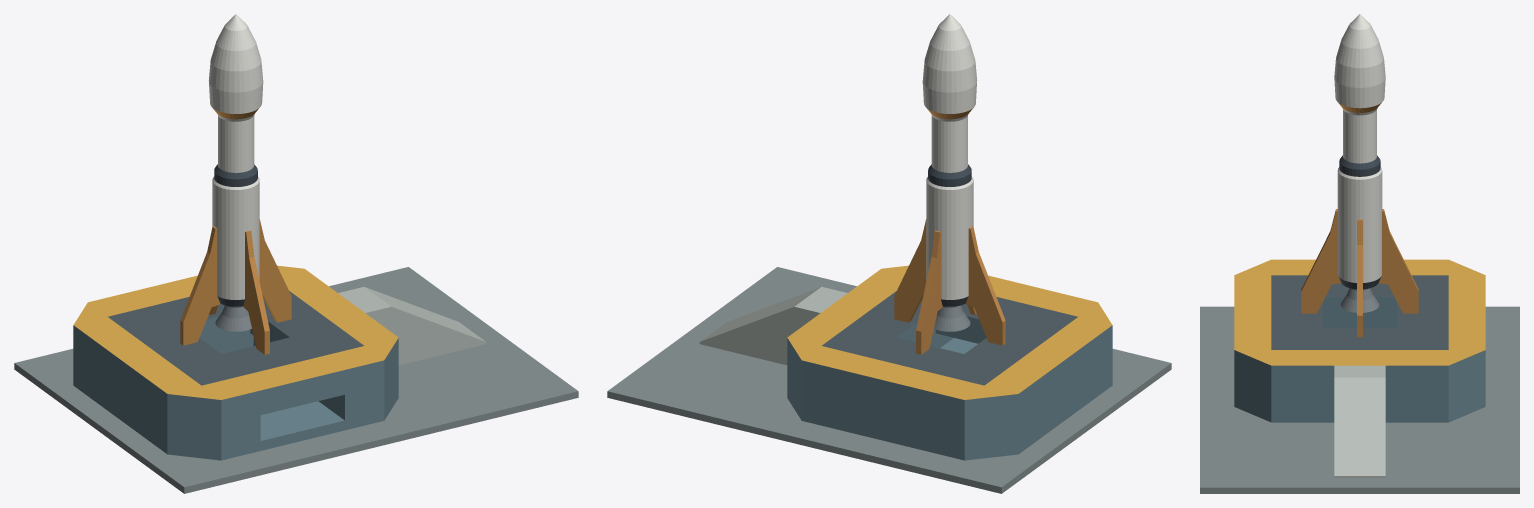
The picture shows the model from 3 angles, left to right: view 1: azimuth 30°, elevation 25°; view 2: azimuth 150°, elevation 25°; view 3: azimuth 270°, elevation 25°; orthographic projection. The views are drawn at different scales.
Visible parts, largest first — view 1: landing__WholeOctagonalLandingPlinthWithTurningVoid, SCENE_ONLY__RocketPlatformApron, rocket__WholeLongSteppedBodyAndOgiveFairing, landing__WholeSideApproachRamp, rocket__WholeSweptTailFin2, rocket__WholeSweptTailFin3, rocket__WholeSweptTailFin0, rocket__WholeDownwardOpenBlindBell; view 2: landing__WholeOctagonalLandingPlinthWithTurningVoid, SCENE_ONLY__RocketPlatformApron, rocket__WholeLongSteppedBodyAndOgiveFairing, landing__WholeSideApproachRamp, rocket__WholeSweptTailFin2, rocket__WholeSweptTailFin1, rocket__WholeSweptTailFin0, rocket__WholeDownwardOpenBlindBell; view 3: landing__WholeOctagonalLandingPlinthWithTurningVoid, SCENE_ONLY__RocketPlatformApron, rocket__WholeLongSteppedBodyAndOgiveFairing, landing__WholeSideApproachRamp, rocket__WholeSweptTailFin1, rocket__WholeSweptTailFin3, rocket__WholeSweptTailFin0, rocket__WholeDownwardOpenBlindBell.
Part boxes in pixels (x1,y1,x2,y2): landing__WholeOctagonalLandingPlinthWithTurningVoid: (73,265,398,460); SCENE_ONLY__RocketPlatformApron: (14,267,578,493); rocket__WholeLongSteppedBodyAndOgiveFairing: (208,14,263,306); landing__WholeSideApproachRamp: (338,286,486,365); rocket__WholeSweptTailFin2: (180,226,220,345); rocket__WholeSweptTailFin3: (243,230,269,354); rocket__WholeSweptTailFin0: (259,219,291,322); rocket__WholeDownwardOpenBlindBell: (215,305,251,331); landing__WholeOctagonalLandingPlinthWithTurningVoid: (787,265,1112,460); SCENE_ONLY__RocketPlatformApron: (607,267,1171,493); rocket__WholeLongSteppedBodyAndOgiveFairing: (922,14,977,306); landing__WholeSideApproachRamp: (699,286,847,365); rocket__WholeSweptTailFin2: (965,226,1005,345); rocket__WholeSweptTailFin1: (916,230,942,354); rocket__WholeSweptTailFin0: (894,219,926,322); rocket__WholeDownwardOpenBlindBell: (934,305,970,331); landing__WholeOctagonalLandingPlinthWithTurningVoid: (1234,259,1485,422); SCENE_ONLY__RocketPlatformApron: (1200,306,1519,493); rocket__WholeLongSteppedBodyAndOgiveFairing: (1334,14,1385,289); landing__WholeSideApproachRamp: (1334,365,1385,477); rocket__WholeSweptTailFin1: (1378,209,1418,313); rocket__WholeSweptTailFin3: (1301,209,1341,313); rocket__WholeSweptTailFin0: (1357,219,1362,337); rocket__WholeDownwardOpenBlindBell: (1340,288,1379,312).
Bounding box in the file's own units: 7.5 × 6.99 × 5.6.
